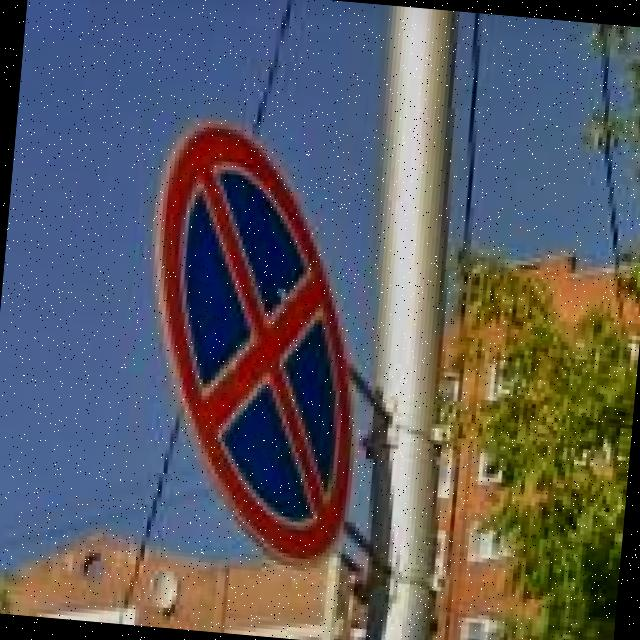Zakaz zatrzymywania sie: (128, 115, 385, 570)
